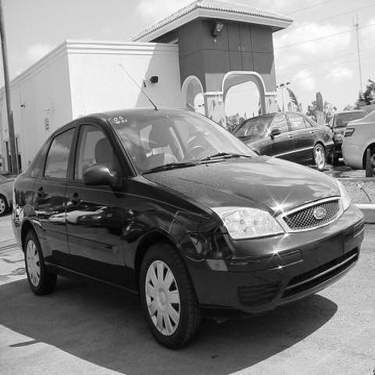car: (7, 105, 365, 353), (204, 106, 344, 175), (304, 103, 367, 159), (338, 96, 373, 182), (3, 158, 32, 220)
